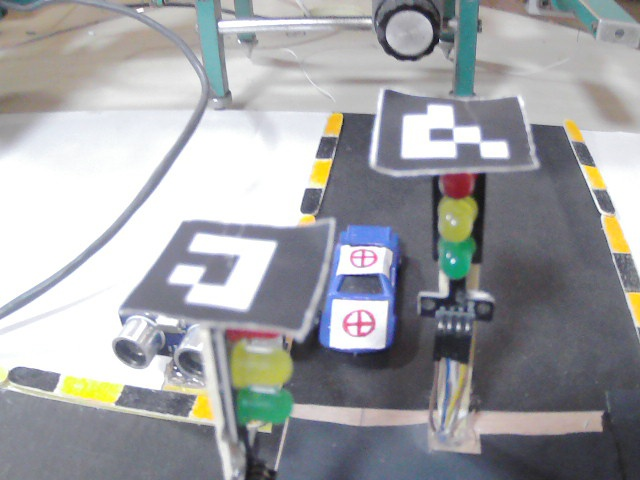aruco_marker: (120, 219, 335, 341), (368, 89, 538, 175)
emergency_vehicle: (317, 224, 407, 358)
traffic_light: (420, 174, 496, 361), (218, 326, 297, 471)
uno_breadboard: (114, 315, 213, 383)
